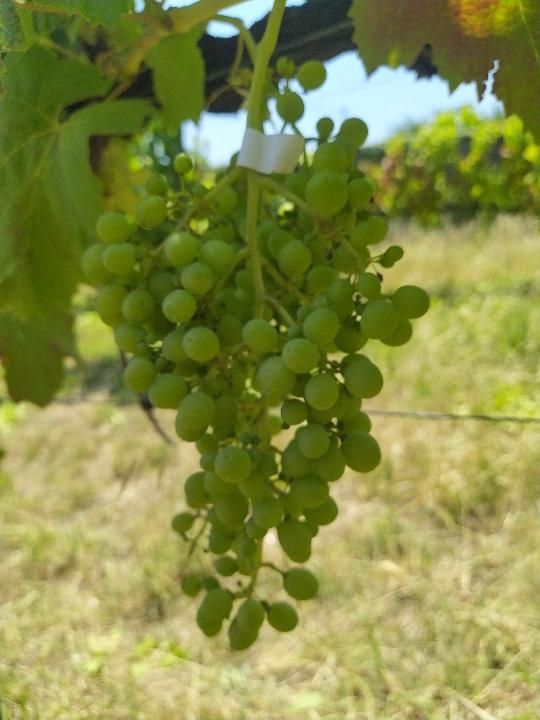grape: (76, 115, 431, 655)
